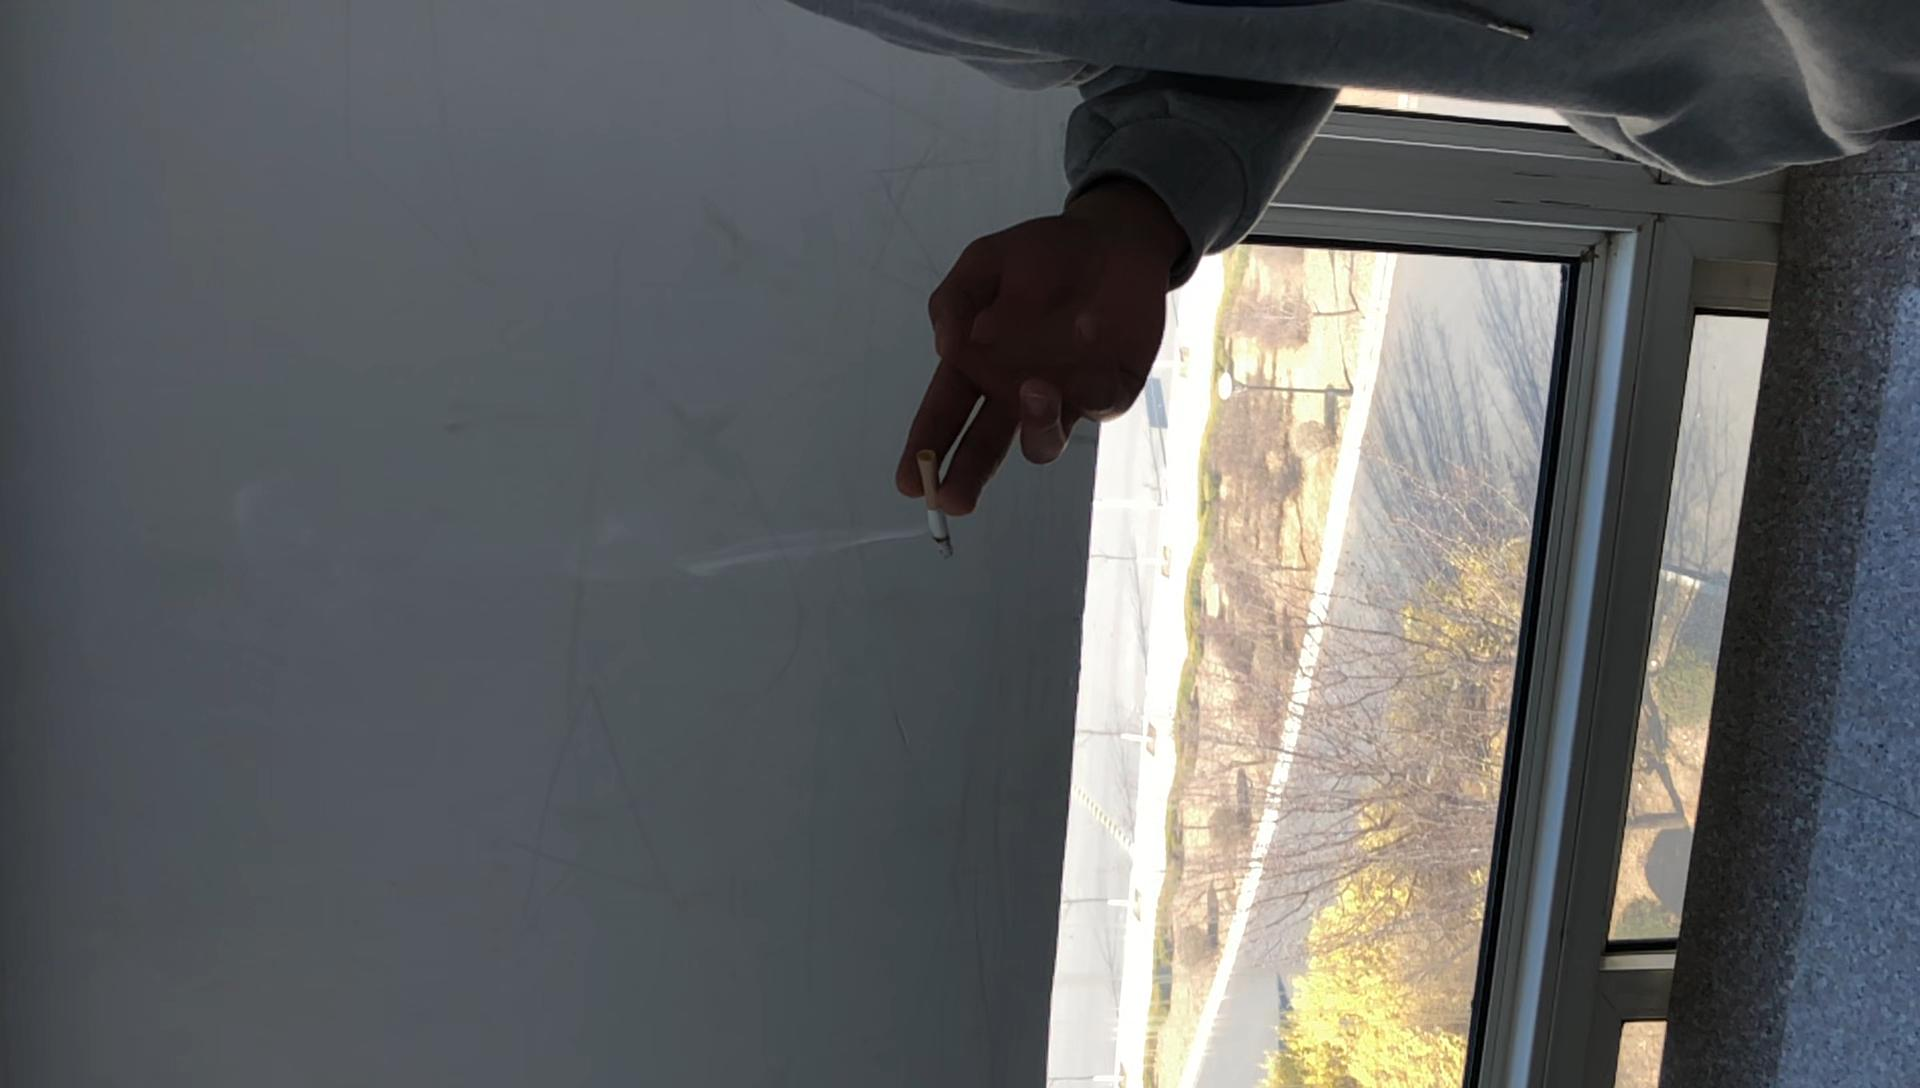yanwu: (687, 514, 915, 572)
